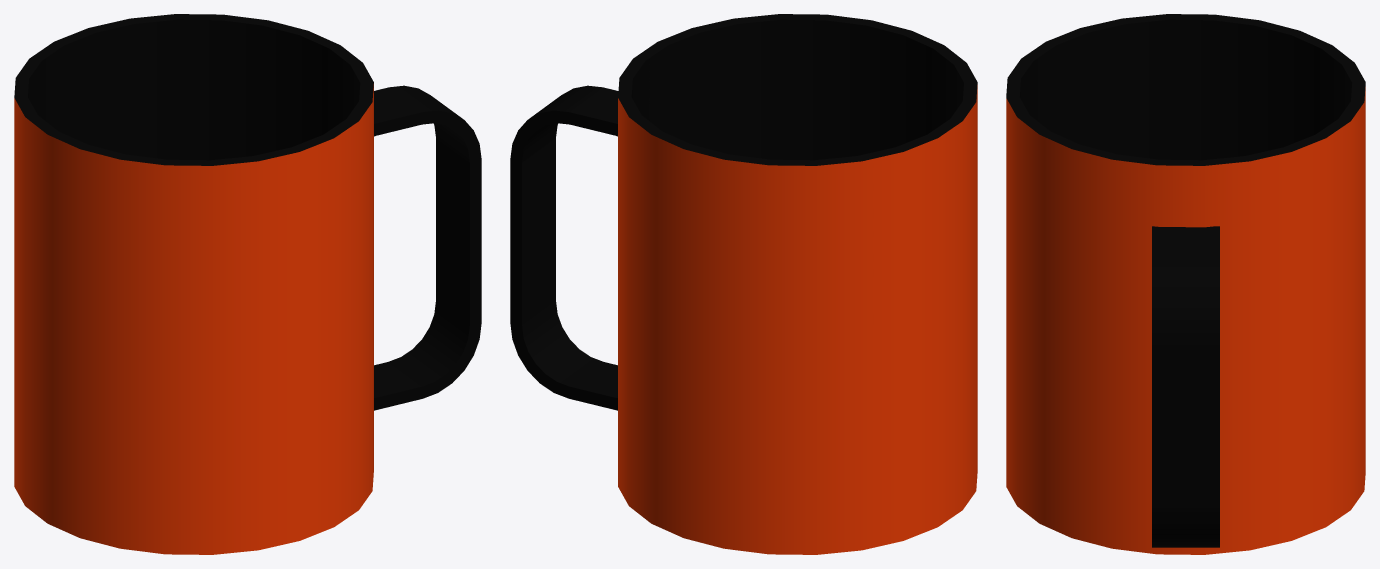
Rendered from mug_14_origin_gt_7.dae.
3 views of the same model, side by side, from view 1: azimuth 30°, elevation 25°; view 2: azimuth 150°, elevation 25°; view 3: azimuth 270°, elevation 25° (orthographic).
Parts seen in each view (by area): view 1: Coffee_Mug (×4); view 2: Coffee_Mug (×4); view 3: Coffee_Mug (×4).
Part boxes in pixels (<box>): Coffee_Mug (×4): <box>14,14,481,554</box>; Coffee_Mug (×4): <box>510,14,977,554</box>; Coffee_Mug (×4): <box>1006,14,1365,554</box>.
Size of the model in its own units: 4.29 by 3.13 by 3.74.
